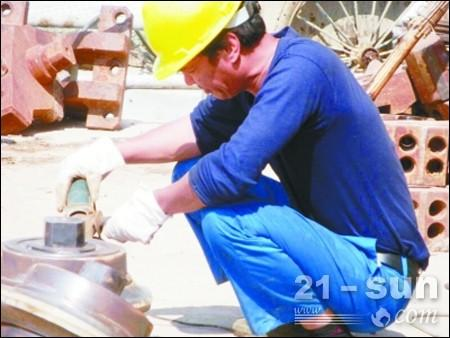gloves: (54, 136, 126, 215), (99, 186, 171, 244)
hard-hat: (140, 1, 248, 81)
person: (54, 0, 431, 337)
